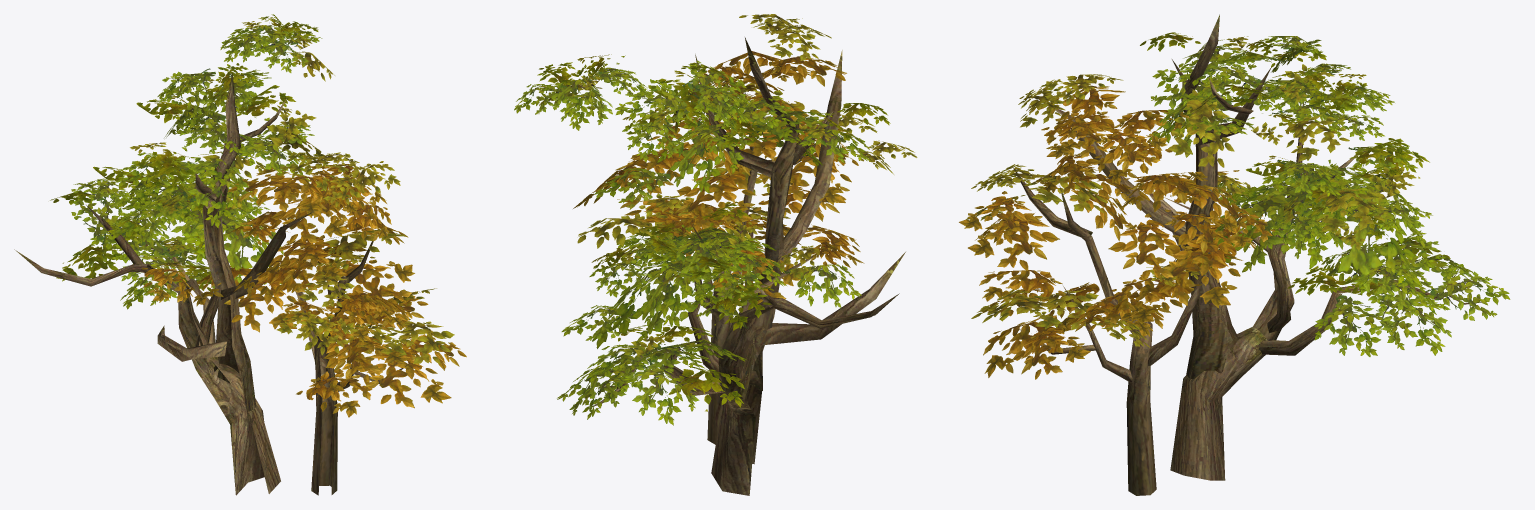
File: S_Tree_Green034_1.FBX
3 renders of one model, left to right at view 1: azimuth 30°, elevation 25°; view 2: azimuth 150°, elevation 25°; view 3: azimuth 270°, elevation 25°, orthographic. The views are drawn at different scales.
Parts seen in each view (by area): view 1: S_Tree_Green034_1; view 2: S_Tree_Green034_1; view 3: S_Tree_Green034_1.
Part boxes in pixels (box(x1,y1,x2,y2)): S_Tree_Green034_1: box(14, 14, 466, 495); S_Tree_Green034_1: box(514, 14, 917, 495); S_Tree_Green034_1: box(959, 14, 1510, 495).
Size of the model in its own units: 1011 by 1325 by 1185.
